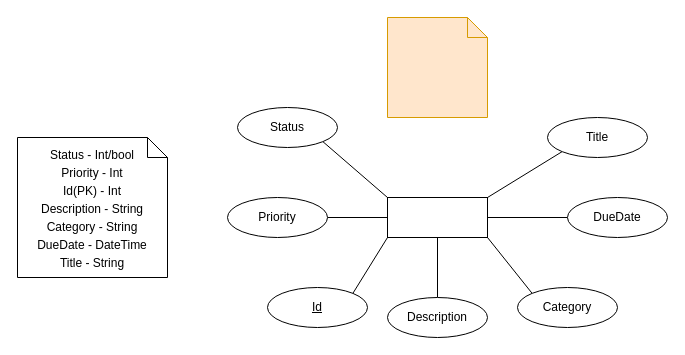
Some shapes in this 685 by 355 pixel diagram are drawn without their labels. Each missing label, with the centre of its shape:
"Databas Tabell Todos" goes at pixel 437 67.
"Todos" goes at pixel 437 217.
